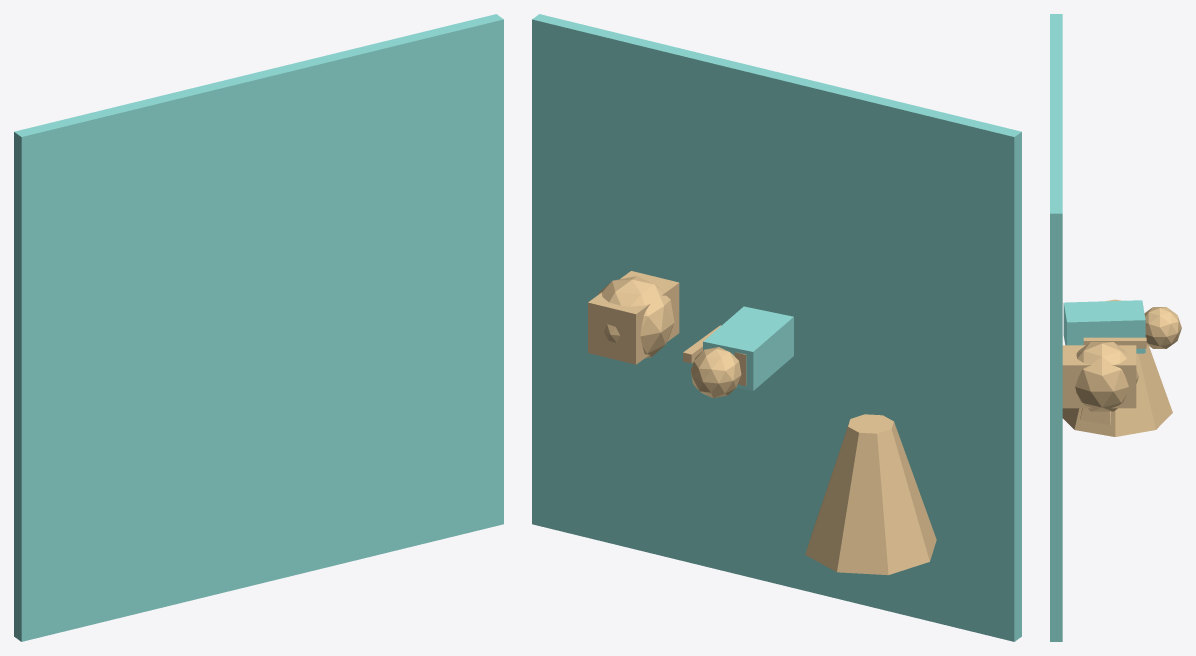
The model's file is emberfall-story-kit.glb.
The picture shows the model from 3 angles, left to right: view 1: azimuth 30°, elevation 25°; view 2: azimuth 150°, elevation 25°; view 3: azimuth 270°, elevation 25°; orthographic projection. The views are drawn at different scales.
Visible parts, largest first — view 1: ENVIRONMENT_GROUND; view 2: ENVIRONMENT_GROUND, ENVIRONMENT_LANDMARK, PLAYER_BODY, PROFILE_OBSTACLE_DETAIL, OBSTACLE, PLAYER_HEAD; view 3: ENVIRONMENT_GROUND, ENVIRONMENT_LANDMARK, PLAYER_BODY, OBSTACLE, PROFILE_OBSTACLE_DETAIL, PLAYER_HEAD, PLAYER_TOOL, PROFILE_ENVIRONMENT_DETAIL.
Part boxes in pixels (x1,y1,x2,y2): ENVIRONMENT_GROUND: (14,14,503,641); ENVIRONMENT_GROUND: (532,14,1021,641); ENVIRONMENT_LANDMARK: (805,414,936,575); PLAYER_BODY: (703,306,793,390); PROFILE_OBSTACLE_DETAIL: (588,271,679,364); OBSTACLE: (598,276,674,358); PLAYER_HEAD: (690,347,741,398); ENVIRONMENT_GROUND: (1050,14,1062,641); ENVIRONMENT_LANDMARK: (1062,299,1172,436); PLAYER_BODY: (1063,300,1145,353); OBSTACLE: (1075,342,1138,411); PROFILE_OBSTACLE_DETAIL: (1062,345,1136,408); PLAYER_HEAD: (1144,307,1181,348); PLAYER_TOOL: (1083,337,1146,348); PROFILE_ENVIRONMENT_DETAIL: (1080,408,1110,425).
Size of what is drawn, in the model's own units: 9 by 9 by 2.51.
